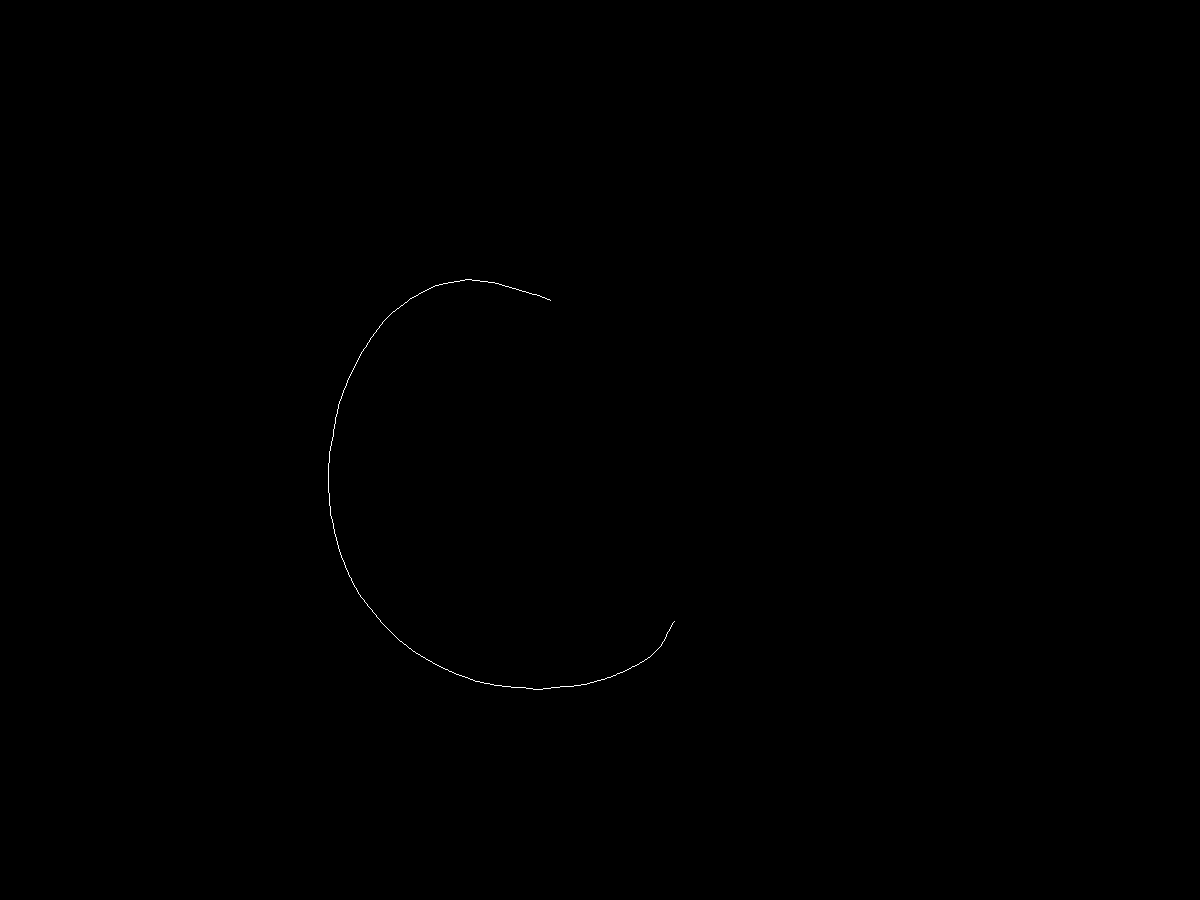dian1: (544, 286, 564, 306)
dian2: (659, 606, 685, 635)
